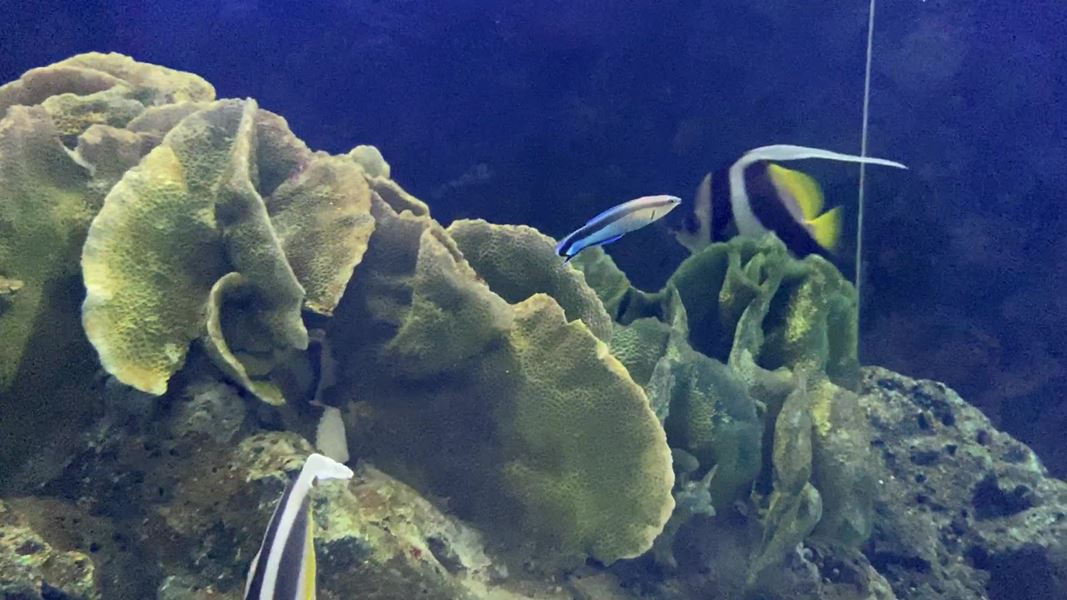Bluesteak cleaner wrasse: (549, 186, 686, 266)
